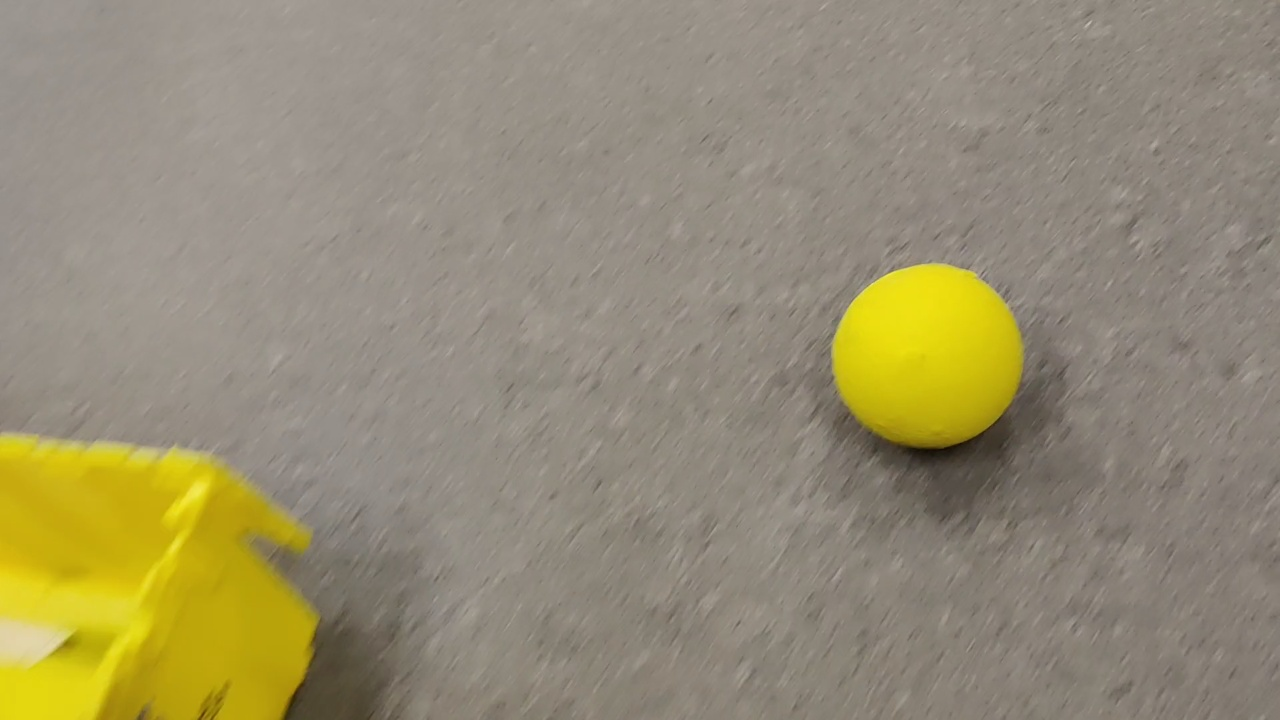Ball: (831, 261, 1024, 447)
